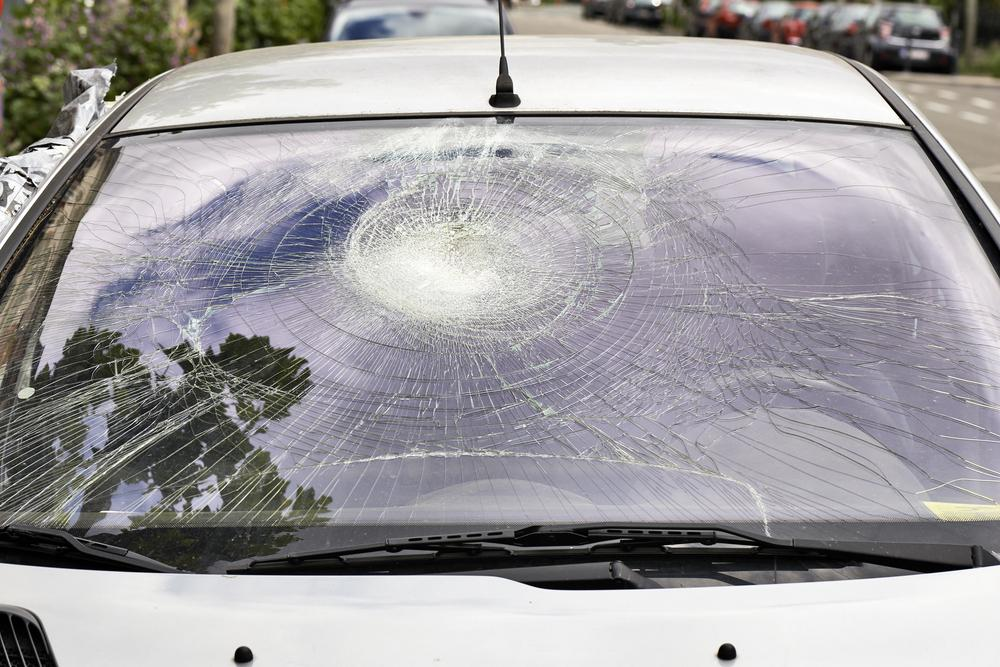glass shatter: (0, 117, 1000, 528)
